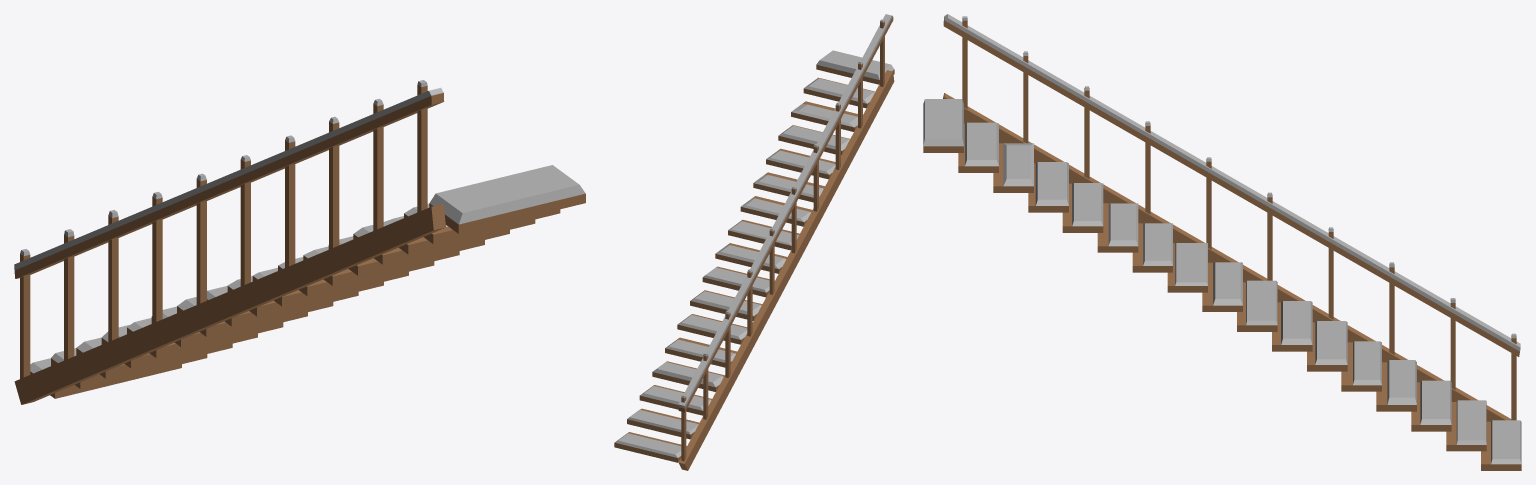
File: Stairs_1 Winter.fbx
3 views of the same model, side by side, from view 1: azimuth 30°, elevation 25°; view 2: azimuth 150°, elevation 25°; view 3: azimuth 270°, elevation 25° (orthographic). The views are drawn at different scales.
Parts seen in each view (by area): view 1: StaisWinter_mesh; view 2: StaisWinter_mesh; view 3: StaisWinter_mesh.
Part boxes in pixels (x1,y1,x2,y2): StaisWinter_mesh: (14, 80, 585, 404); StaisWinter_mesh: (614, 14, 894, 470); StaisWinter_mesh: (923, 14, 1521, 470).
Size of the model in its own units: 83.37 by 350 by 449.
